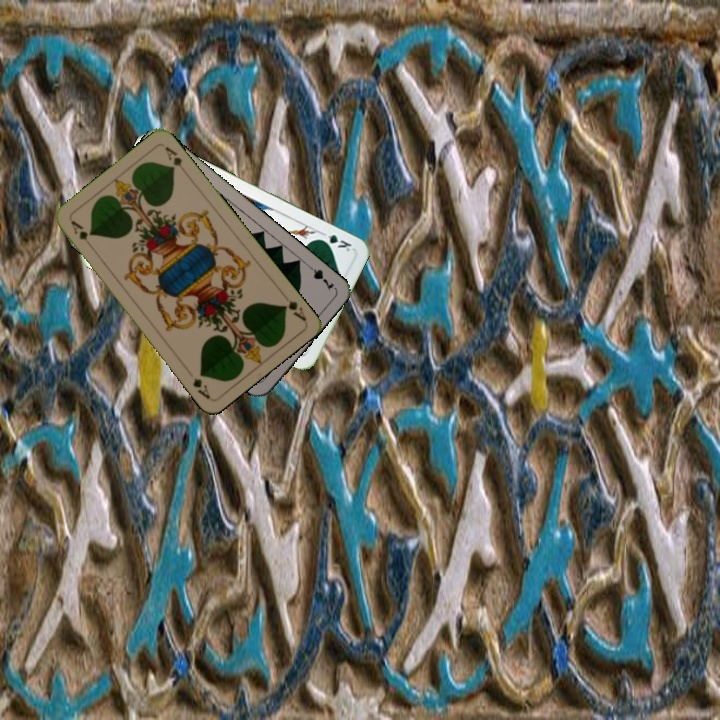G7: (303, 260, 337, 293)
GA: (278, 289, 309, 324), (66, 216, 96, 250)
GK: (315, 228, 354, 254)
